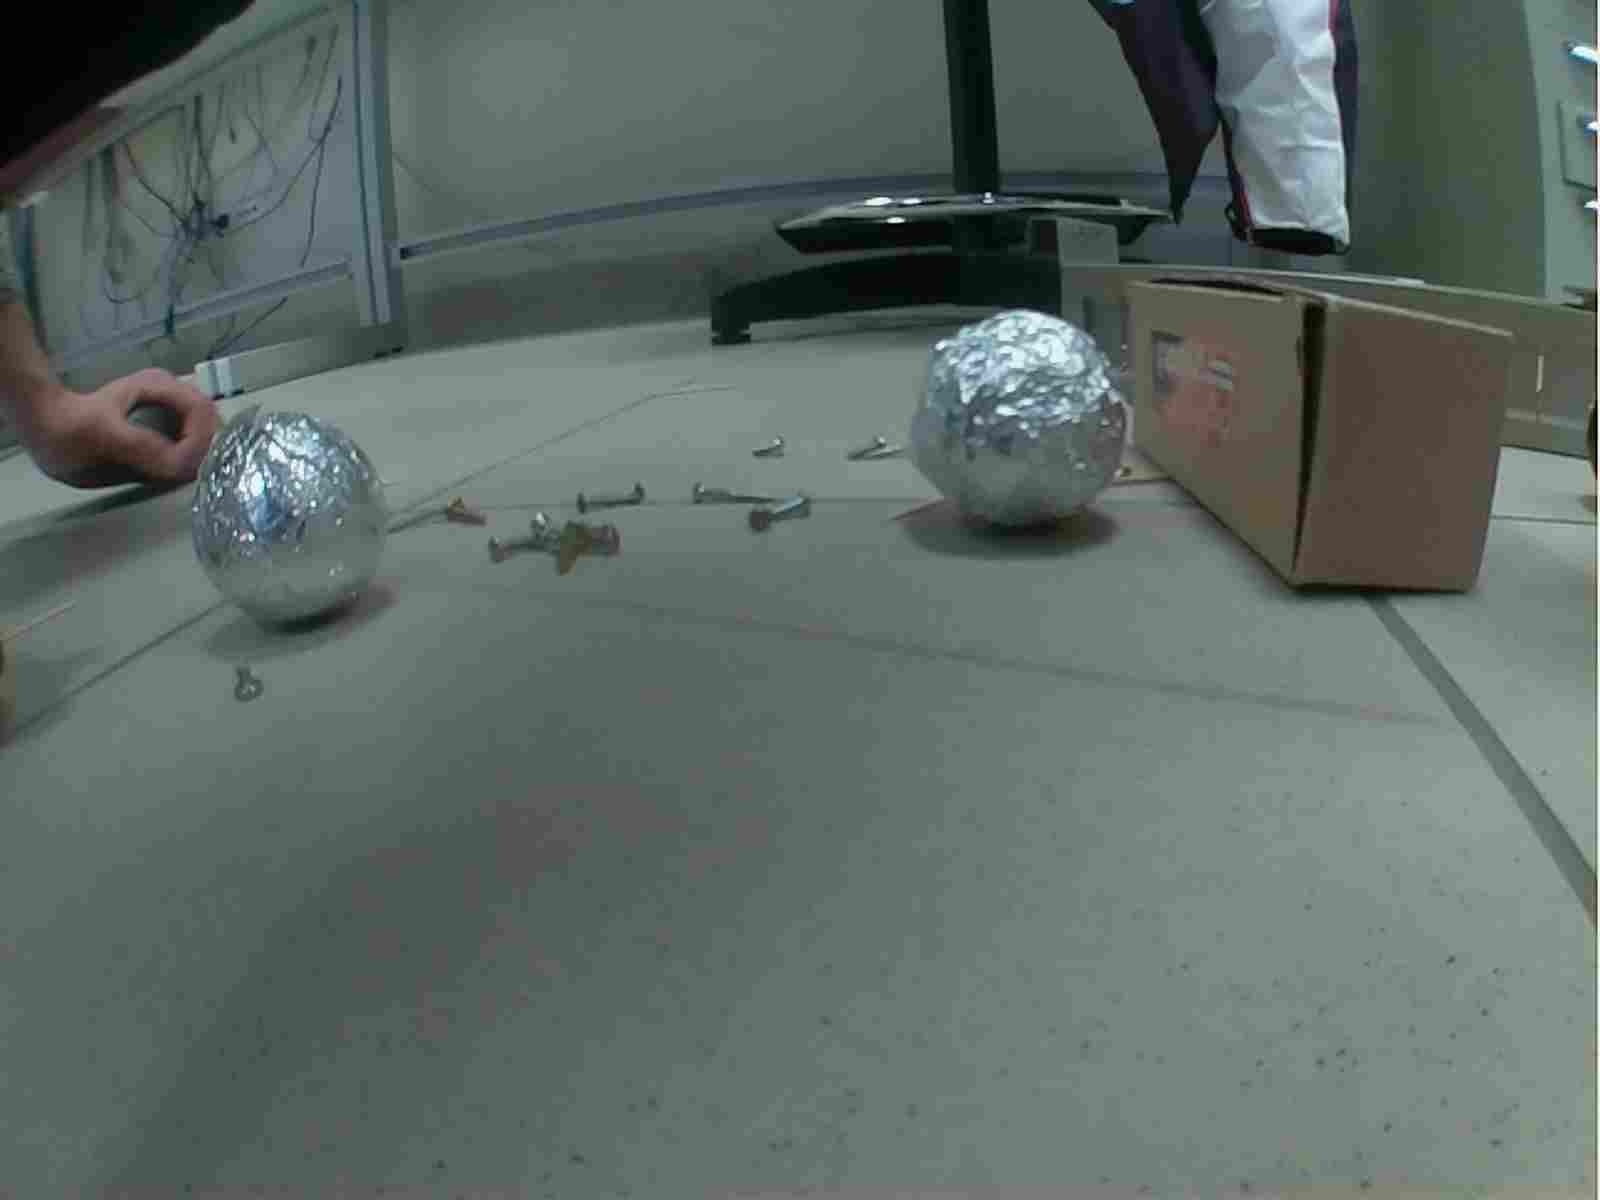bianca: (910, 308, 1130, 529), (185, 401, 386, 623)
